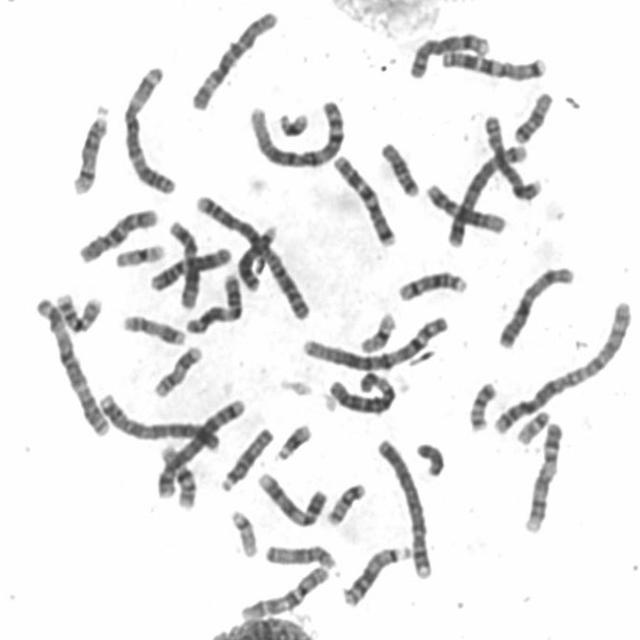A1: (296, 308, 451, 373), (243, 94, 348, 170)
A2: (488, 294, 635, 438), (190, 188, 314, 322)
A3: (30, 289, 111, 438), (116, 59, 179, 196)
B4: (372, 431, 435, 581), (93, 387, 223, 453)
B5: (152, 390, 248, 501), (443, 136, 532, 249)
C10: (235, 558, 331, 622), (72, 201, 160, 265)
C11: (146, 240, 234, 294), (180, 267, 244, 336)
C12: (420, 176, 508, 234), (162, 213, 203, 311)
C6: (184, 3, 280, 112), (321, 366, 398, 416)
C7: (328, 148, 398, 248), (436, 44, 549, 82)
C8: (480, 108, 544, 202), (403, 26, 492, 80)
C9: (518, 414, 566, 536), (252, 466, 329, 528)
D13: (337, 538, 413, 608), (234, 218, 281, 292)
D14: (67, 99, 111, 196), (392, 264, 469, 303)
D15: (215, 422, 277, 494), (259, 537, 339, 571)
E16: (155, 438, 198, 511), (50, 286, 105, 334)
E17: (148, 340, 205, 400), (116, 308, 188, 346)
E18: (375, 135, 421, 198), (508, 86, 555, 144)
F19: (354, 306, 399, 354), (109, 237, 167, 269)
F20: (321, 477, 368, 528), (462, 375, 498, 433)
G21: (269, 417, 314, 462), (272, 106, 311, 140)
G22: (224, 503, 260, 560), (511, 403, 552, 445)
X: (492, 259, 577, 351)
Y: (411, 436, 446, 477)
